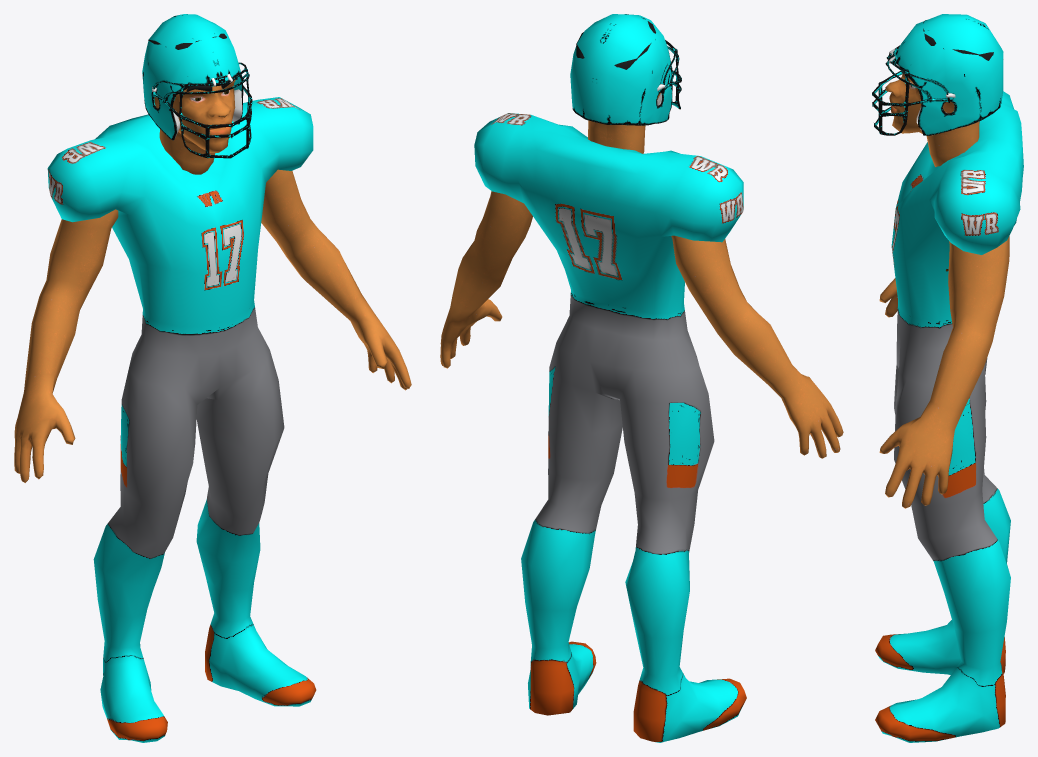
File: football3.glb
3 renders of one model, left to right at view 1: azimuth 30°, elevation 25°; view 2: azimuth 150°, elevation 25°; view 3: azimuth 270°, elevation 25°, orthographic.
Visible parts, largest first — view 1: body_low, arms_low, Helmet_low, face_low; view 2: body_low, arms_low, Helmet_low, face_low; view 3: body_low, arms_low, Helmet_low, face_low.
Part boxes in pixels (left/top/right/bottom): body_low: left=47, top=97, right=316, bottom=742; arms_low: left=14, top=169, right=411, bottom=482; Helmet_low: left=142, top=14, right=252, bottom=158; face_low: left=148, top=33, right=235, bottom=174; body_low: left=474, top=113, right=746, bottom=742; arms_low: left=440, top=191, right=843, bottom=458; Helmet_low: left=570, top=14, right=681, bottom=125; face_low: left=576, top=14, right=660, bottom=153; body_low: left=875, top=91, right=1023, bottom=742; arms_low: left=879, top=236, right=1009, bottom=508; Helmet_low: left=872, top=14, right=1003, bottom=135; face_low: left=885, top=20, right=993, bottom=166.
Size of the model in its own units: 28.09 by 47.57 by 9.59.
2 materials, 2 textured.
